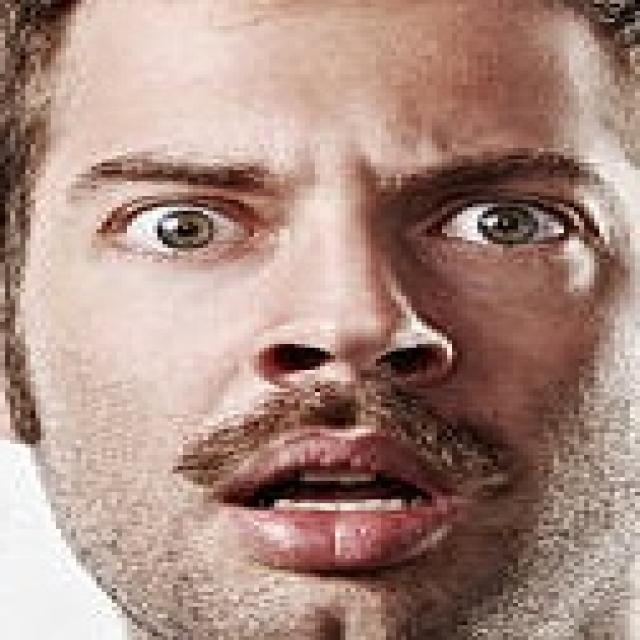Anxiety: (12, 0, 635, 636)
